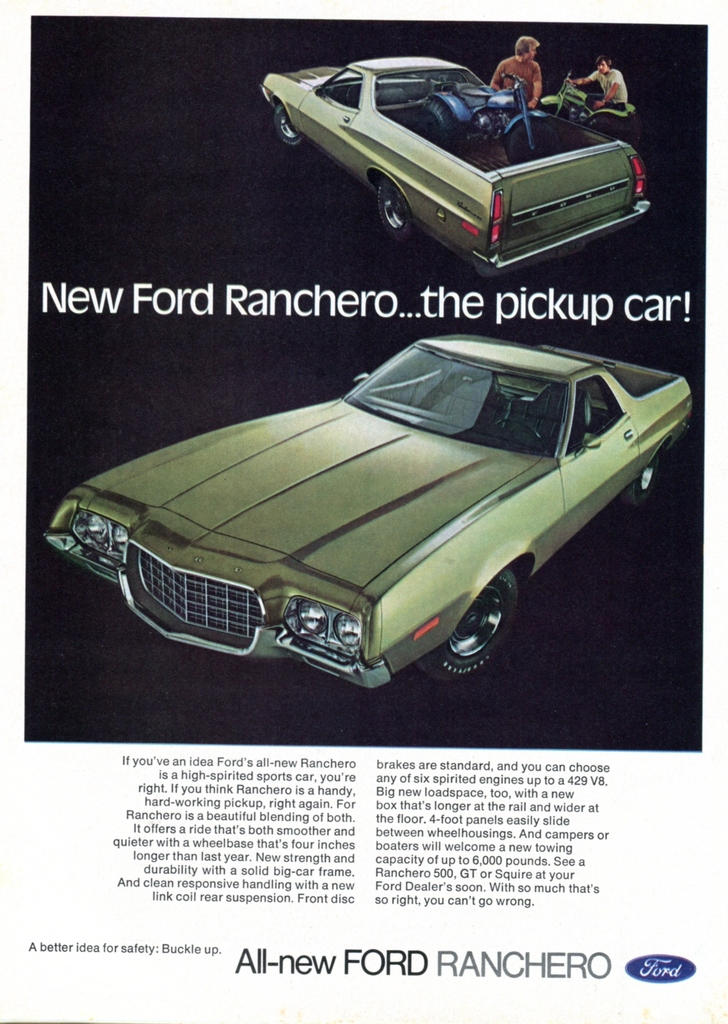car: (43, 334, 692, 688), (259, 55, 650, 277)
